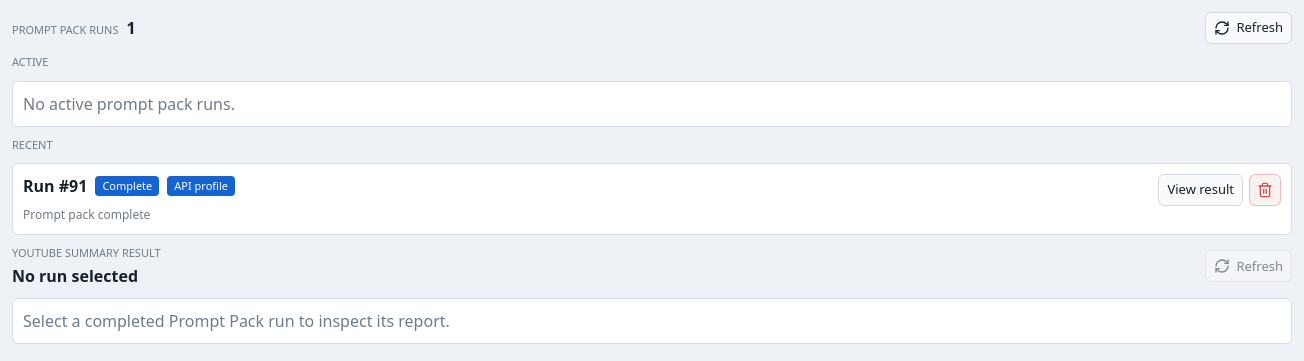
Test: project runs tab delete controls > wires per-row delete controls for prompt pack runs
Click the button named "Delete Prompt Pack run 91" at coordinates (1265, 190), box [1249, 174, 1281, 206]
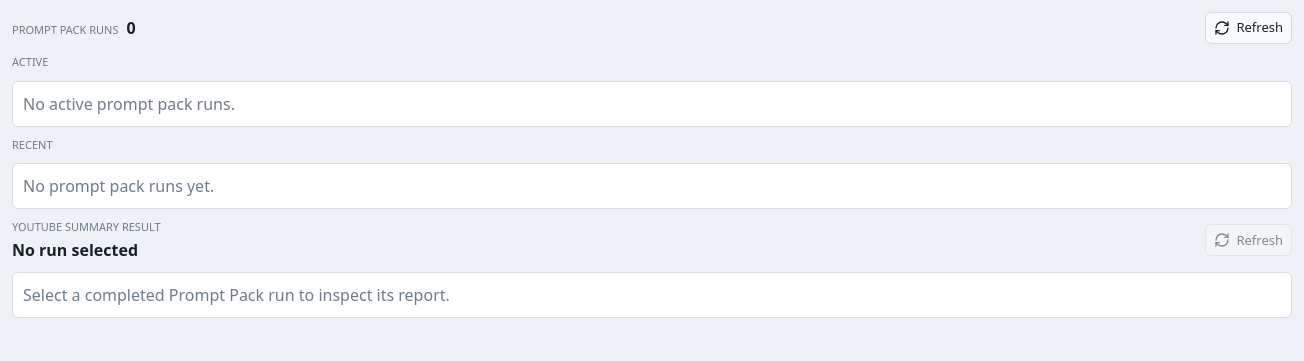
Expected: the text "Run #91" is gone
